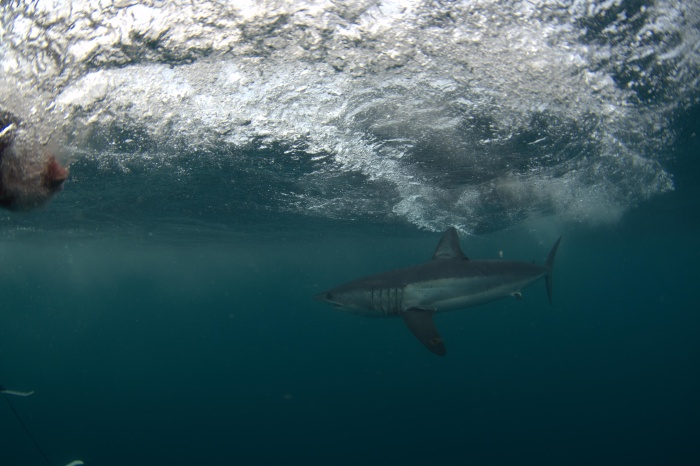Mako: (306, 219, 571, 358)
